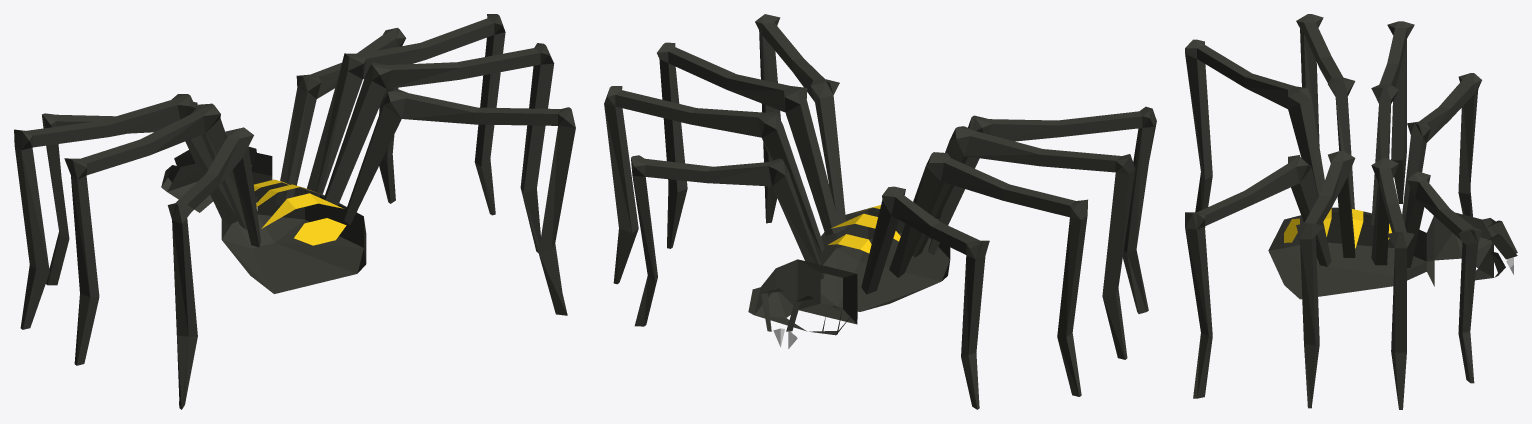
File: npc_world_witches_experiment_second_form_0.obj
The picture shows the model from 3 angles, left to right: view 1: azimuth 30°, elevation 25°; view 2: azimuth 150°, elevation 25°; view 3: azimuth 270°, elevation 25°; orthographic projection. The views are drawn at different scales.
Bounding box in the file's own units: 1 × 0.4297 × 0.6562.
